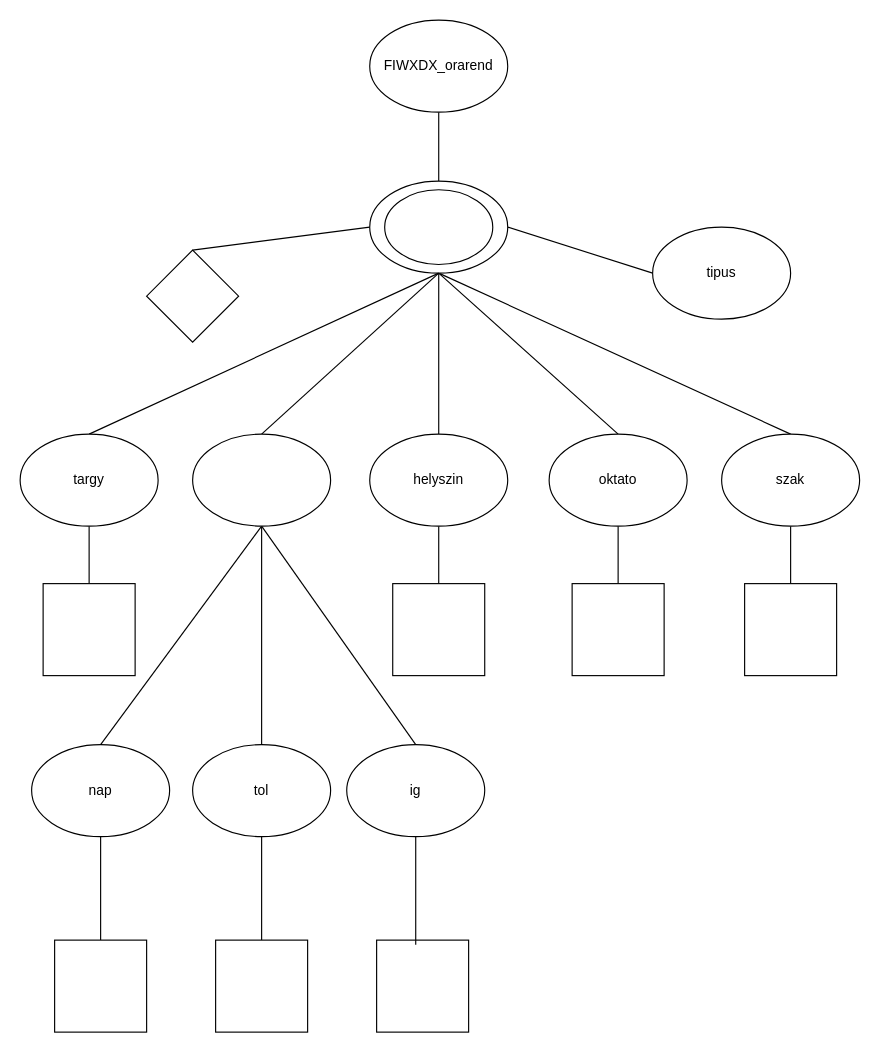
Some shapes in this 880 by 1052 pixel diagram are drawn without their labels. The shapes that lost their labels are listed below. From the top down, each one's centre as x and y in pixels, then its label:
At point (438, 226): "ora".
At point (192, 295): "id".
At point (261, 479): "idopont".
